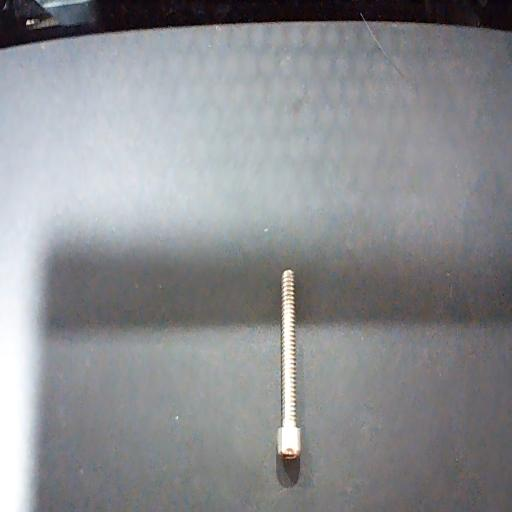screw: (277, 270, 301, 460)
